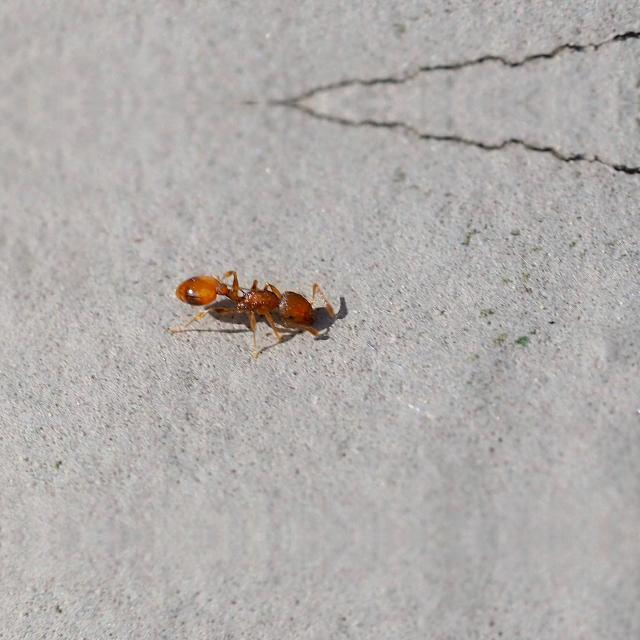Temnothorax: (165, 260, 348, 346)
